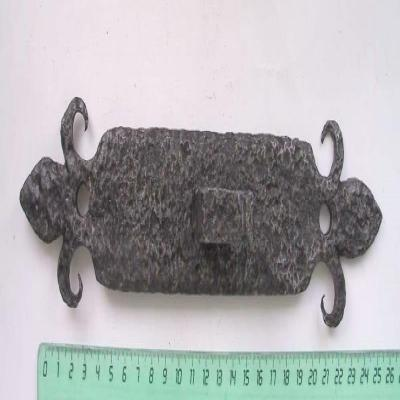other: (18, 99, 384, 328)
